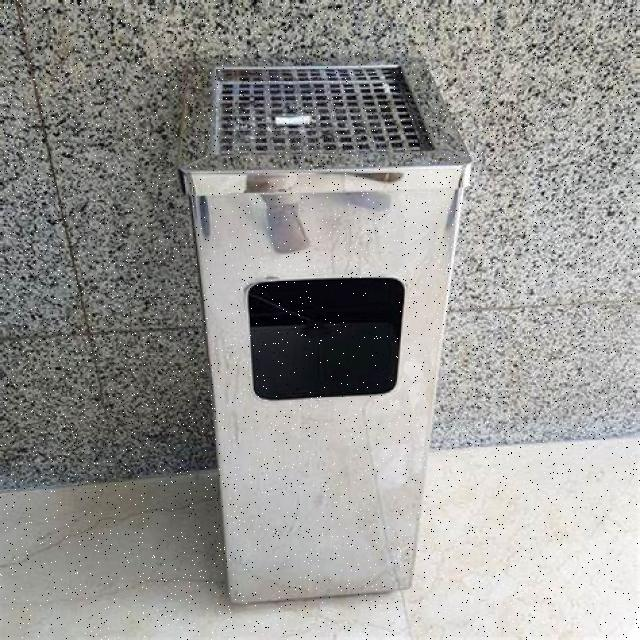garbage container: (172, 40, 483, 609)
